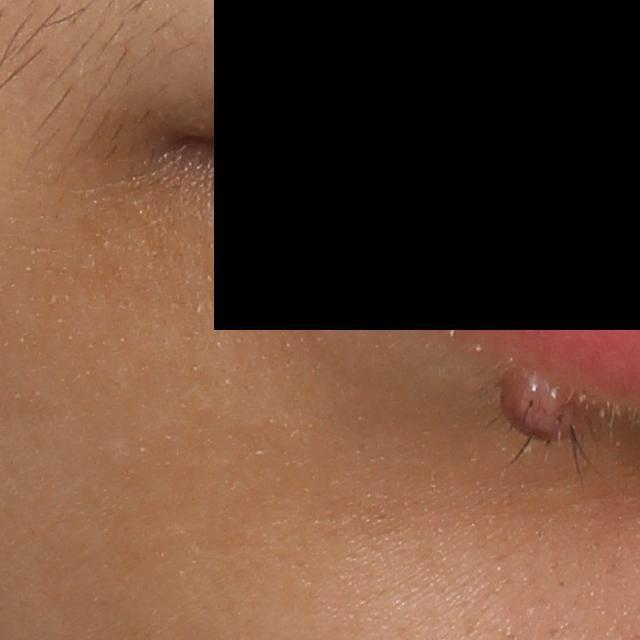other: (490, 361, 598, 453)
